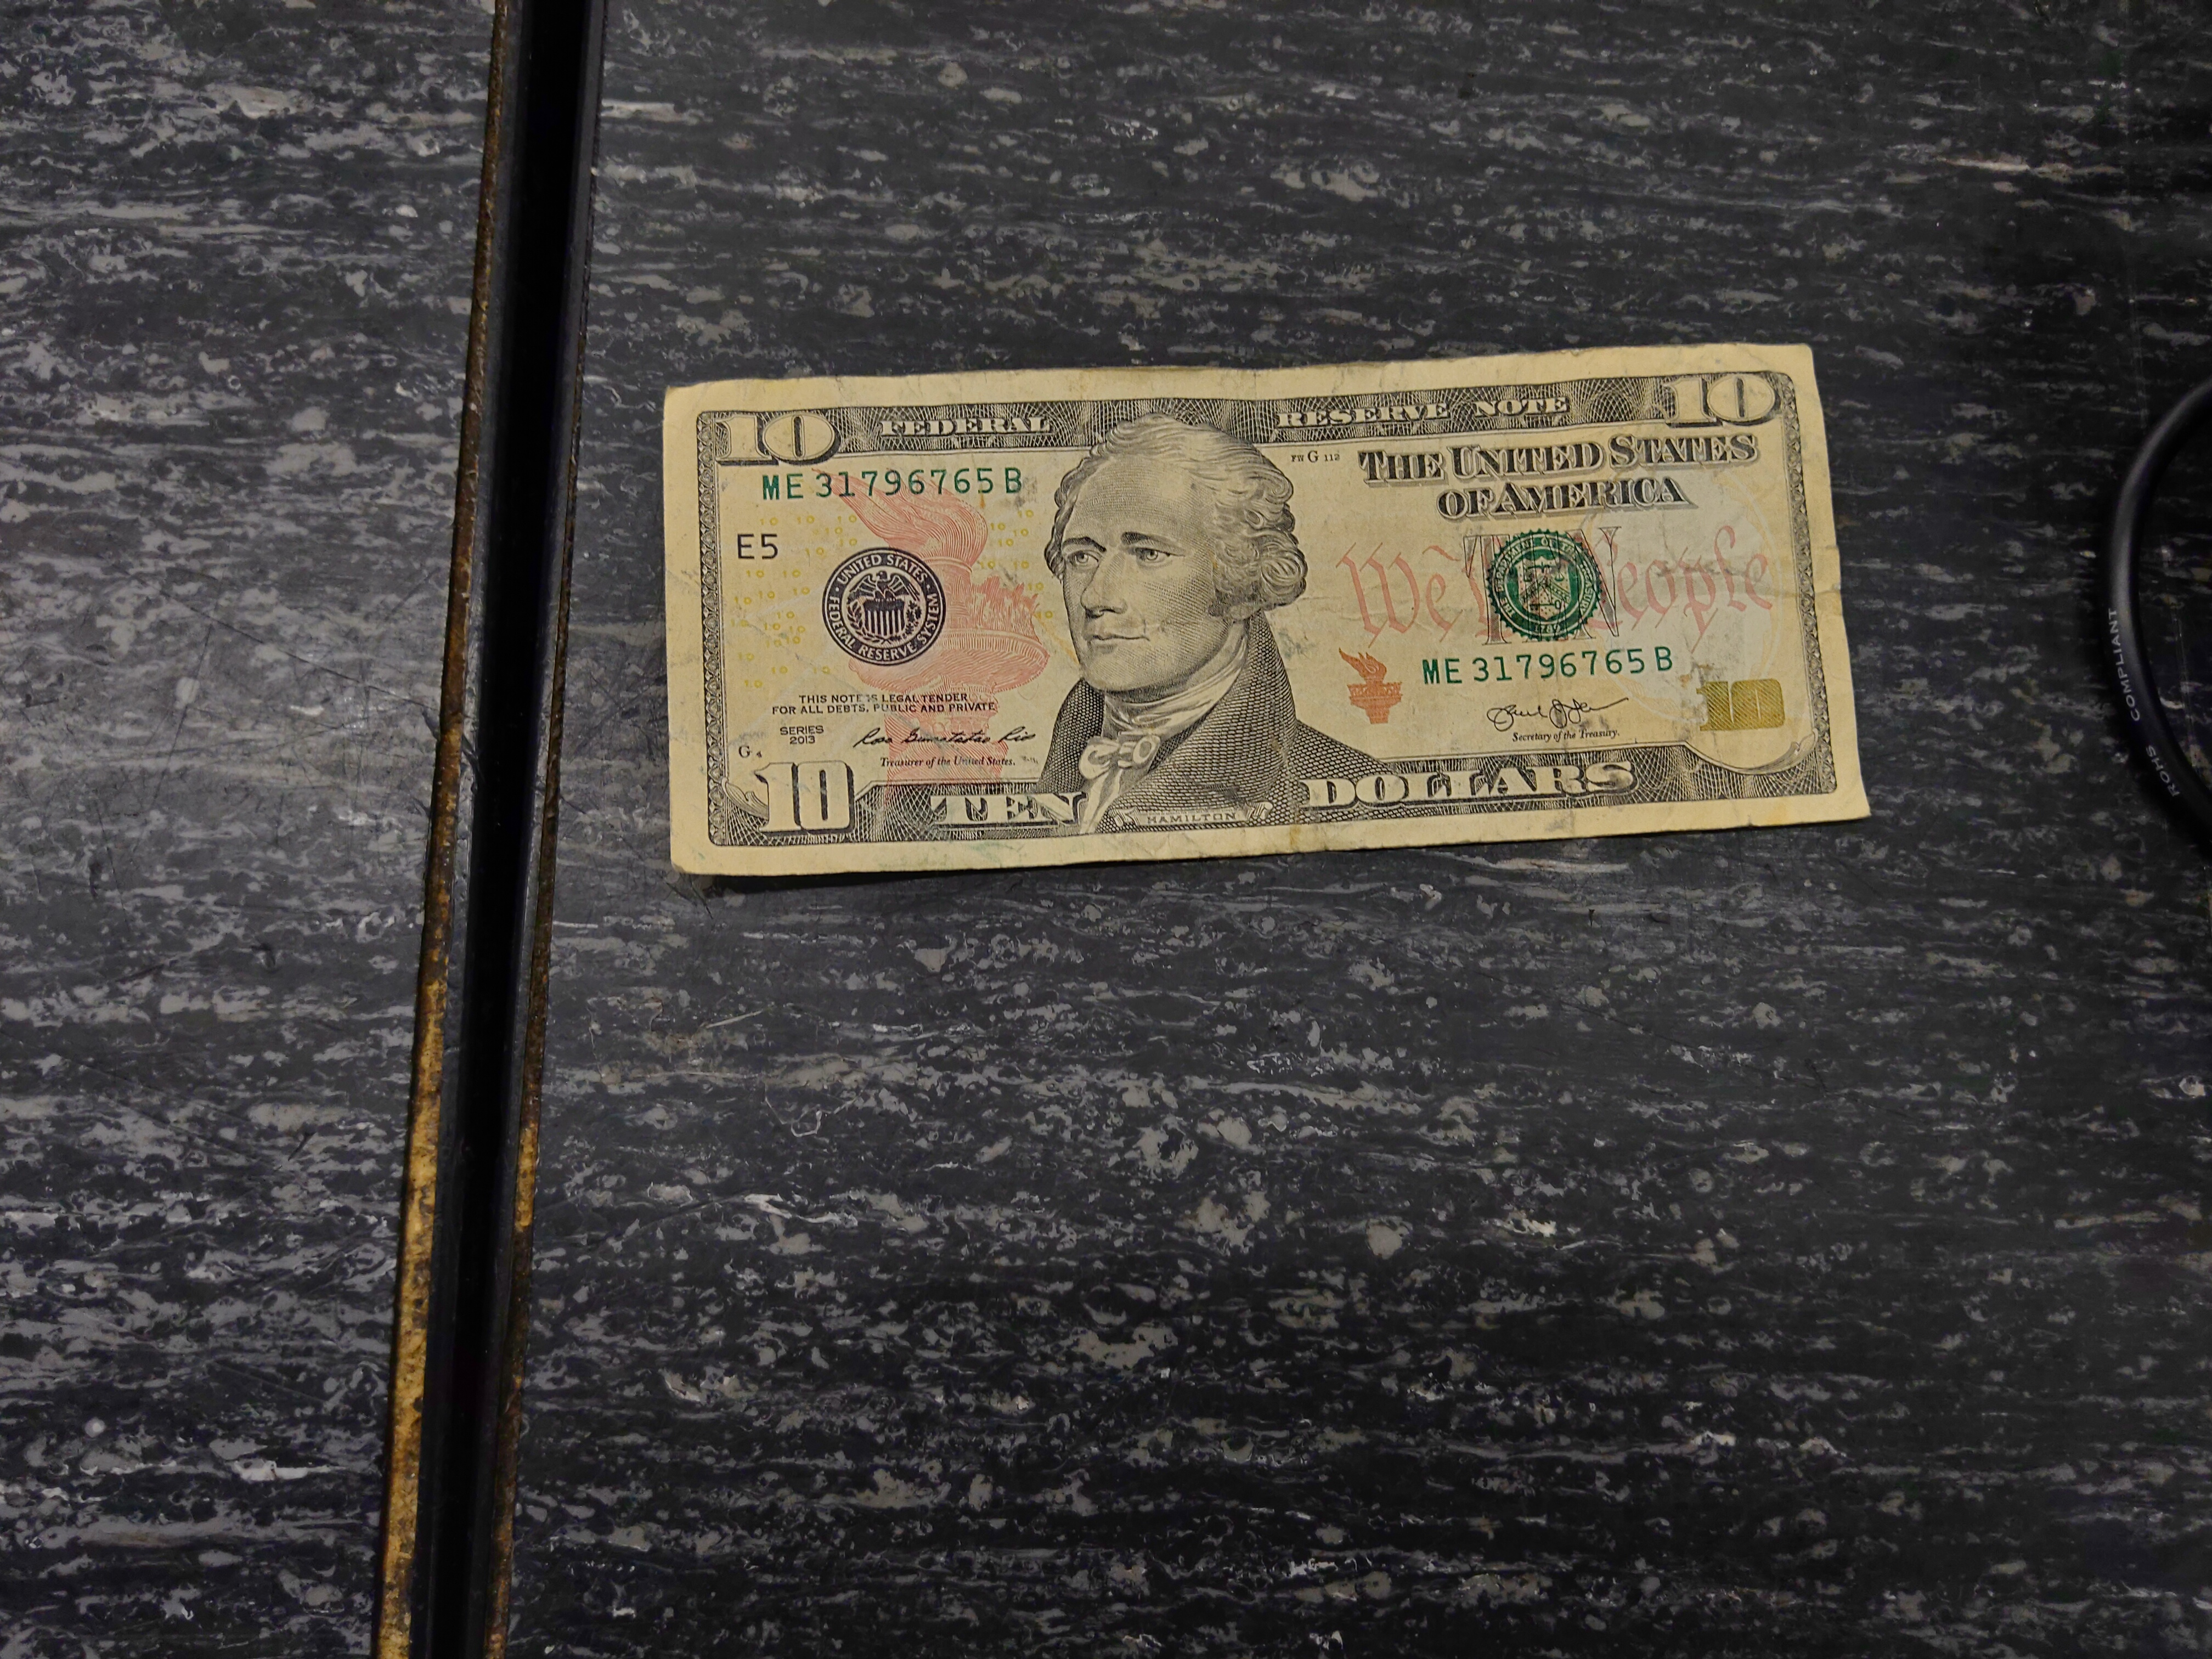TenBill: (664, 343, 1874, 880)
